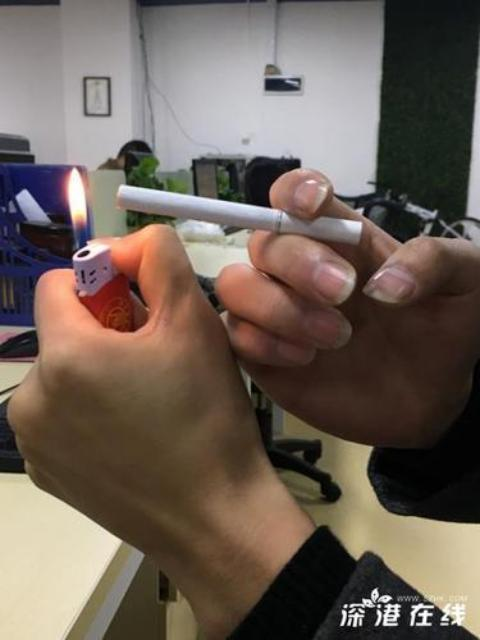Smoking: (116, 184, 364, 248)
